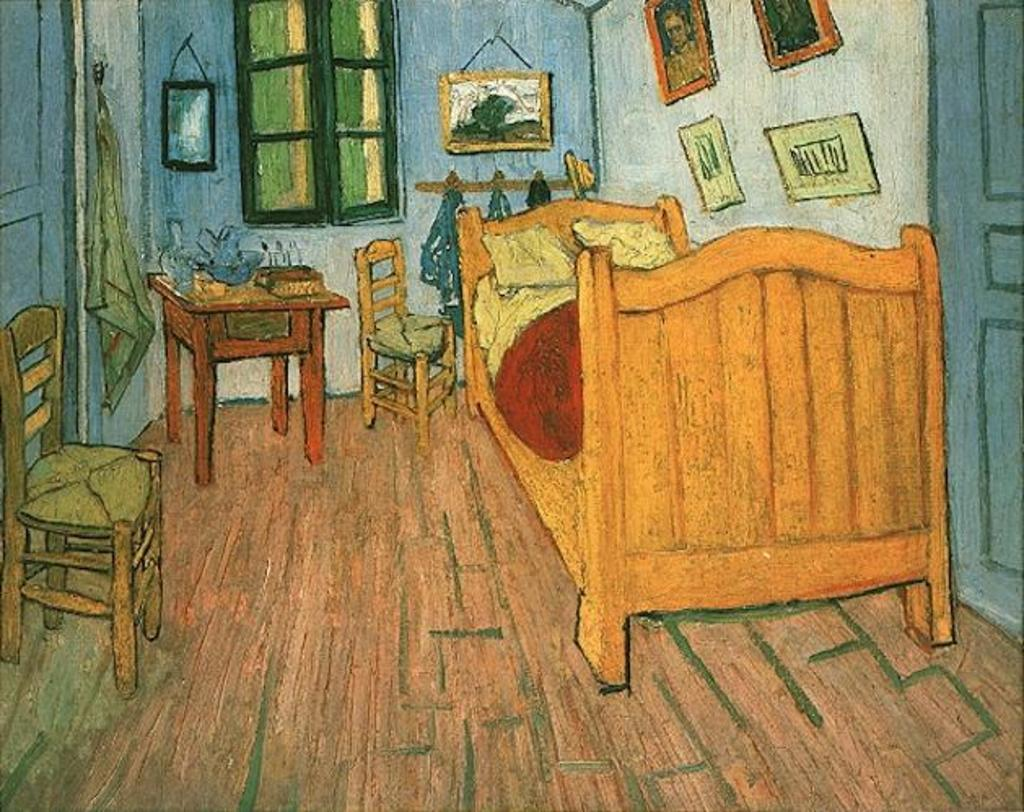Chair: (11, 334, 174, 716), (366, 233, 462, 443)
